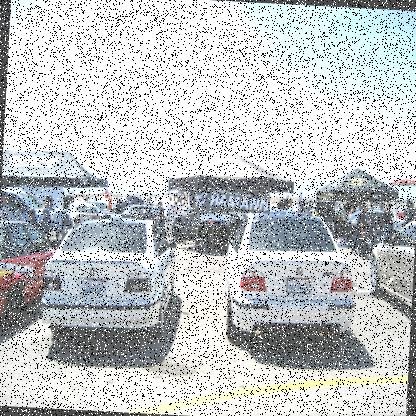Car: (222, 212, 362, 357), (42, 210, 178, 330), (0, 220, 61, 324), (368, 216, 416, 328), (0, 187, 74, 254), (340, 208, 380, 240), (165, 204, 199, 240), (68, 199, 100, 231), (121, 202, 156, 225), (392, 202, 415, 235), (85, 197, 112, 223)
